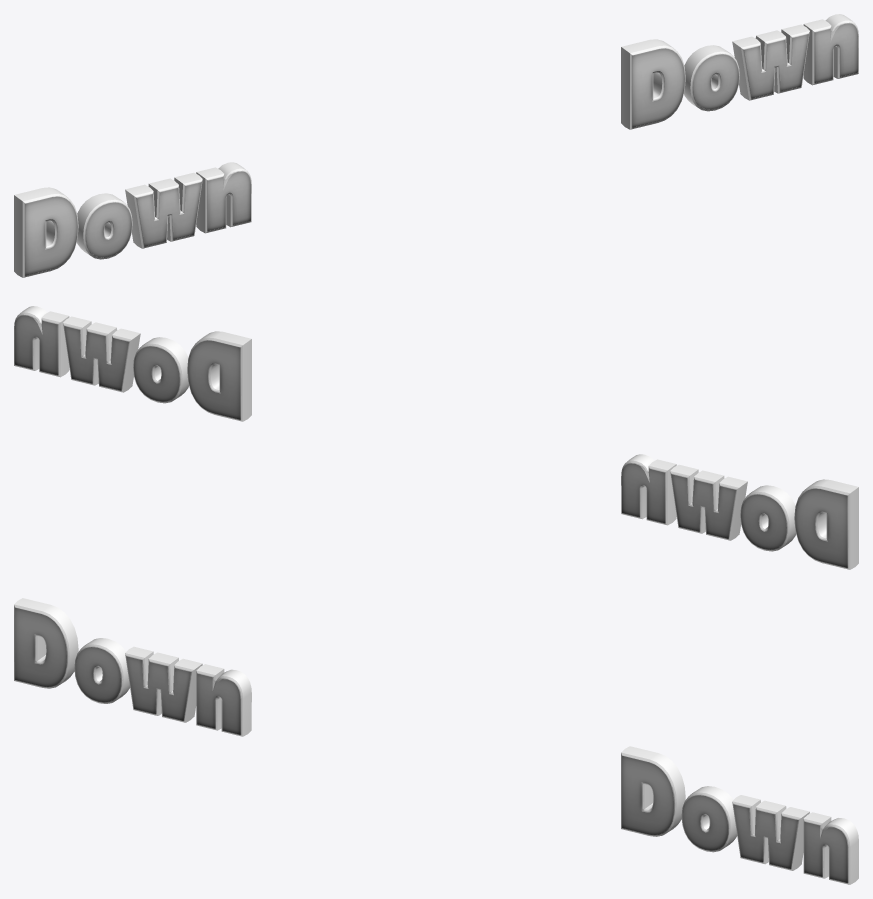
The model's file is box_down_model__down.glb.
3 renders of one model, top to bottom at view 1: azimuth 30°, elevation 25°; view 2: azimuth 150°, elevation 25°; view 3: azimuth 330°, elevation 25°, orthographic.
Parts seen in each view (by area): view 1: polygon0, polygon1; view 2: polygon0, polygon1; view 3: polygon0, polygon1.
Boxes of the visible parts, x1,y1,x2,y2 form: polygon0: (621, 14, 858, 129); polygon1: (14, 162, 251, 277); polygon0: (14, 306, 251, 421); polygon1: (621, 454, 858, 569); polygon0: (621, 746, 858, 884); polygon1: (14, 598, 251, 736).
Size of the model in its own units: 55.14 by 4.97 by 1.2.
1 material, 1 textured.
